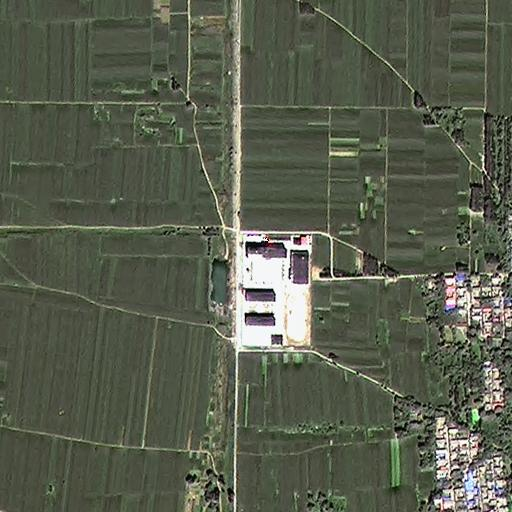school: (236, 232, 312, 351)
